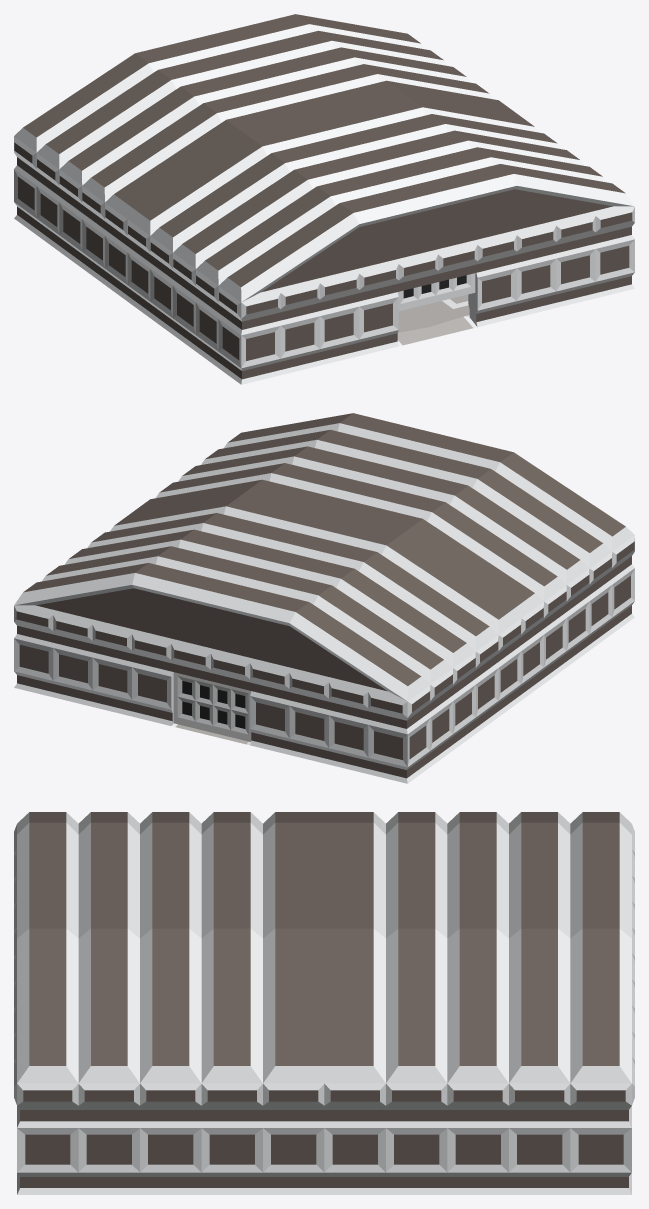
The model's file is WareHouse_02.fbx.
The picture shows the model from 3 angles, top to bottom: view 1: azimuth 30°, elevation 25°; view 2: azimuth 150°, elevation 25°; view 3: azimuth 270°, elevation 25°; orthographic projection. The views are drawn at different scales.
Parts seen in each view (by area): view 1: Warehouse_body, Warehouse_Door.B; view 2: Warehouse_body, Warehouse_Door.F; view 3: Warehouse_body.
Part boxes in pixels (box(x1,y1,x2,y2)): Warehouse_body: box(14, 14, 634, 384); Warehouse_Door.B: box(397, 273, 475, 311); Warehouse_body: box(14, 413, 634, 783); Warehouse_Door.F: box(173, 672, 251, 741); Warehouse_body: box(14, 812, 634, 1194).
Size of the model in its own units: 1009 by 340 by 1009.
Materials: 1 (1 with a texture image).
